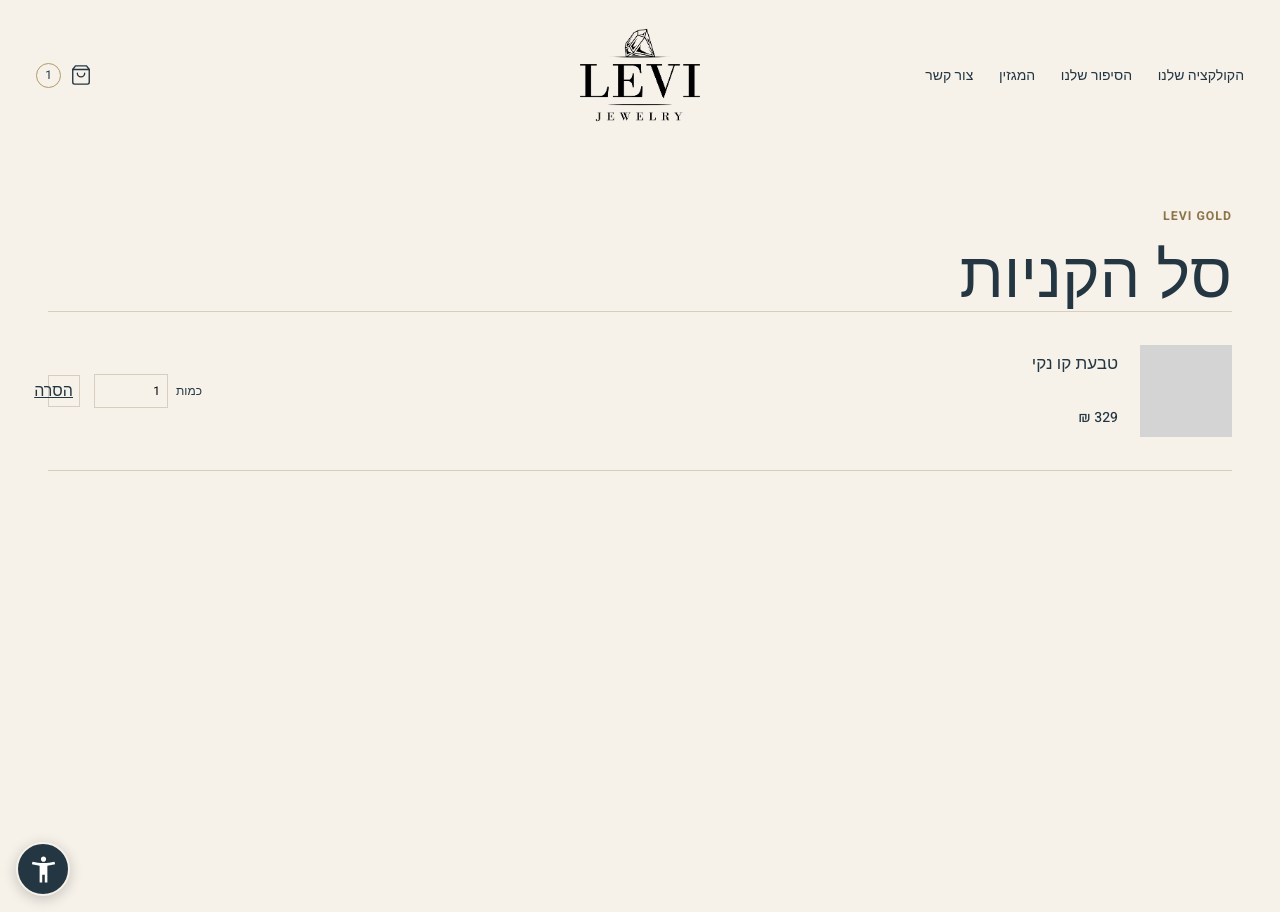
confirms when a product is removed from the cart
Click the button "הסרה".
click(64, 391)  # box [48,375,80,407]
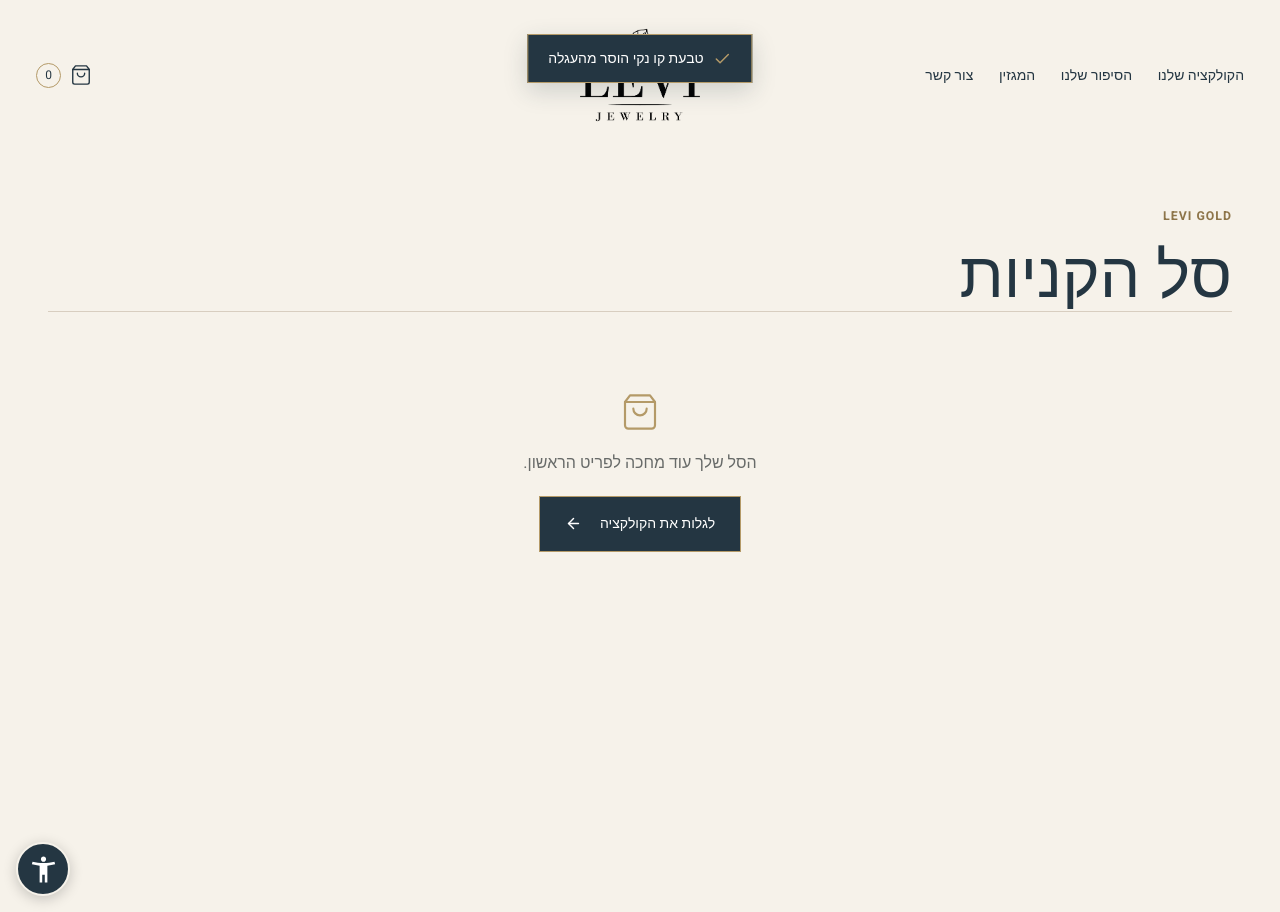
Now the message reads "טבעת קו נקי הוסר מהעגלה", box [548,48,704,69]
Now the text "הסל שלך עוד מחכה לפריט הראשון." is shown, box [523,451,757,477]
